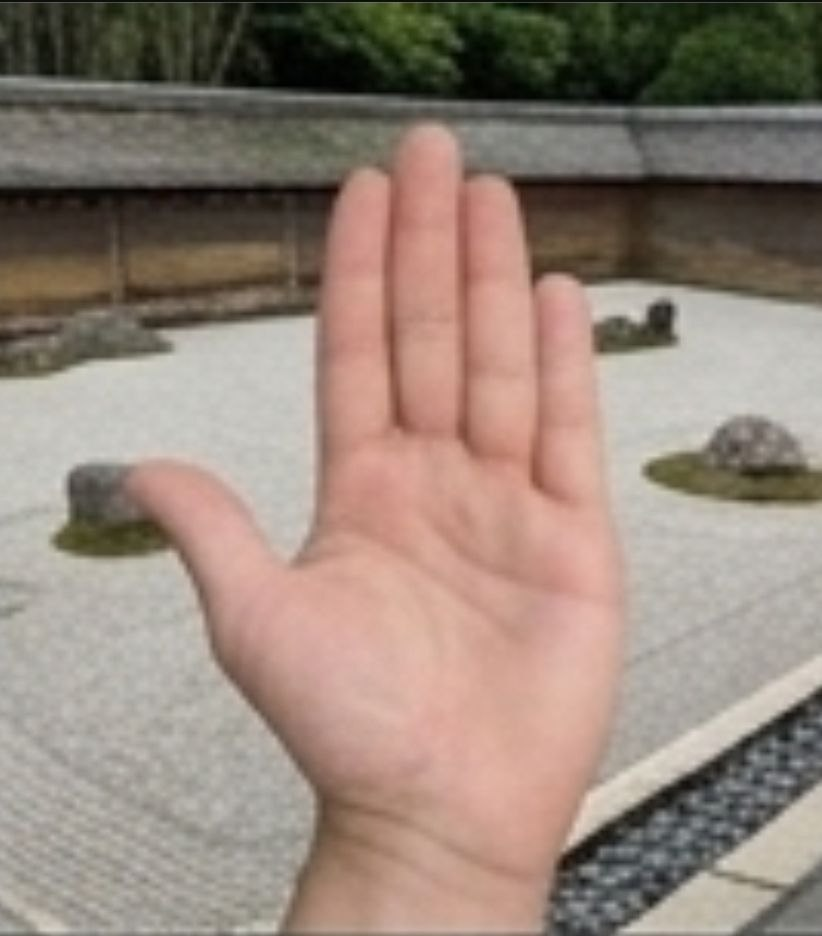Palm: (70, 116, 701, 936)
